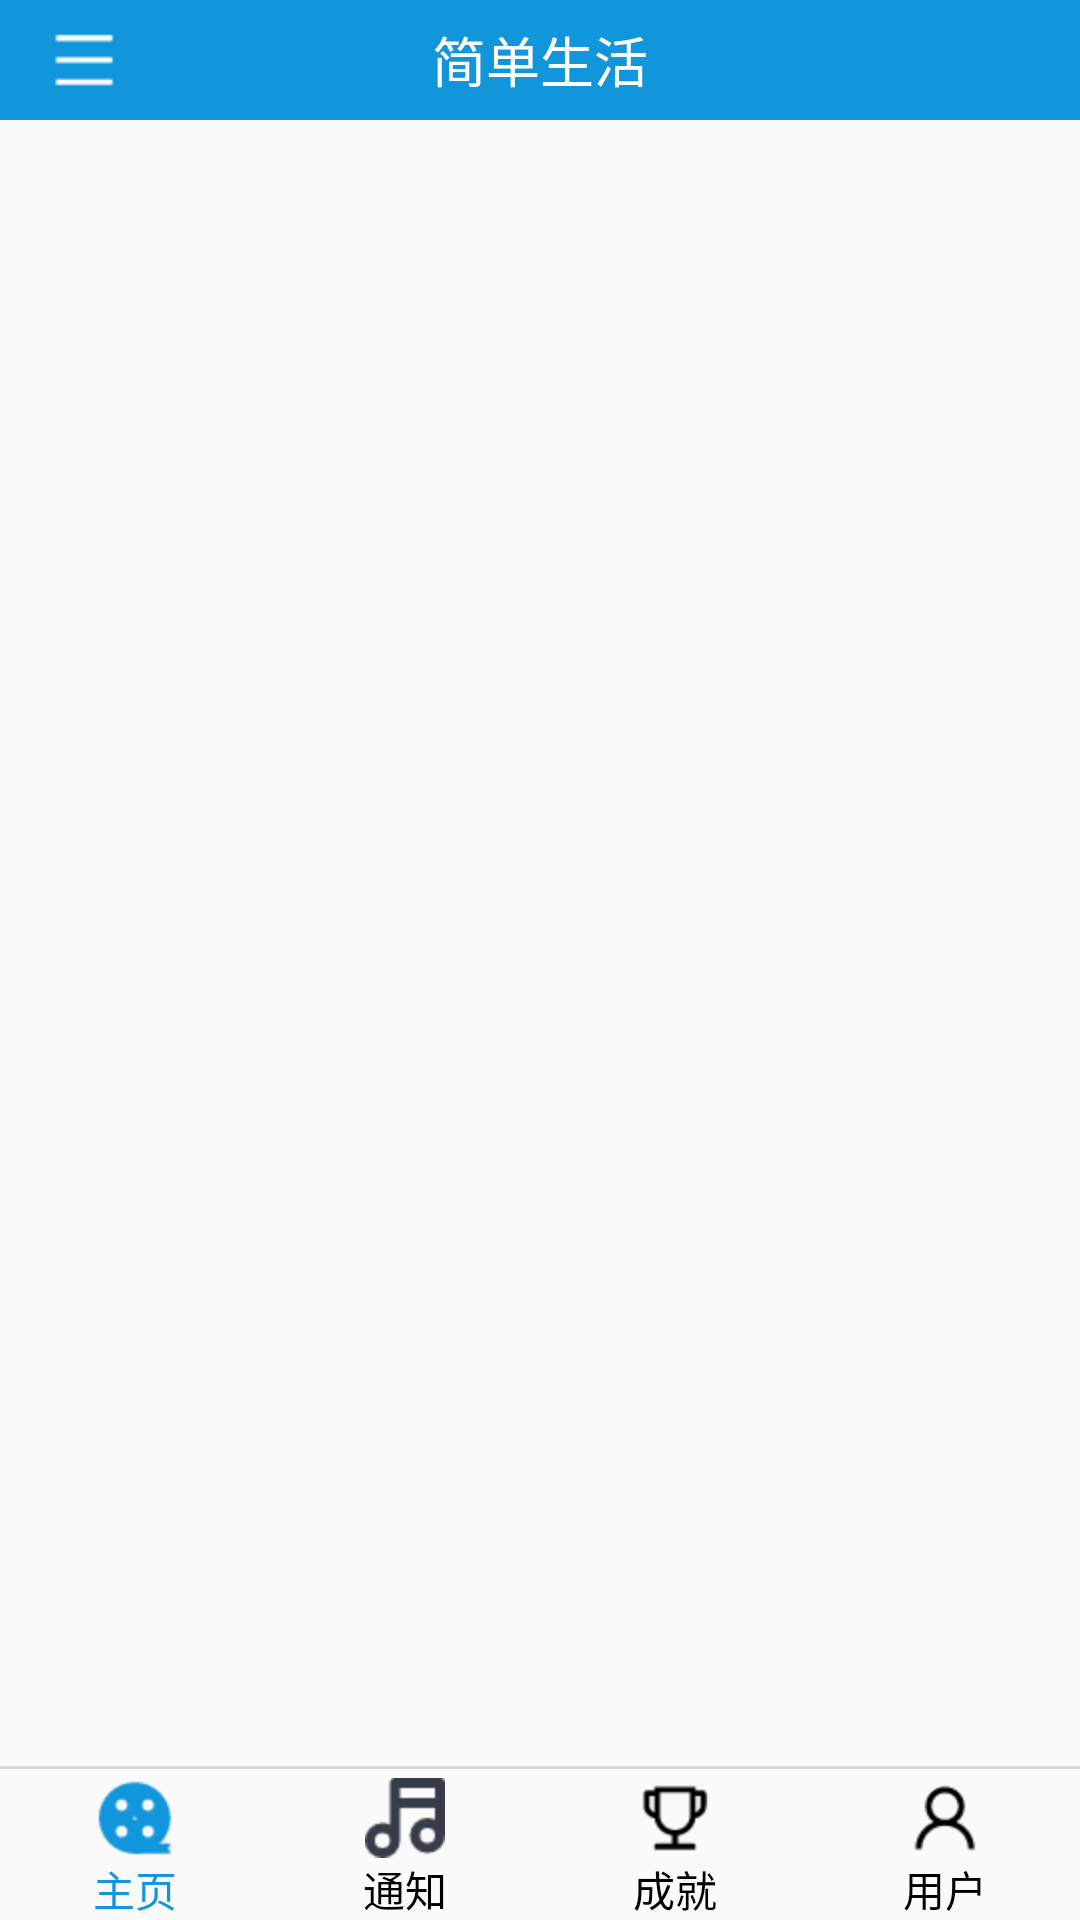

Point at icon controls on the screen. Image size 1080px×1920px, points as (x,y).
menu: (84,60)
